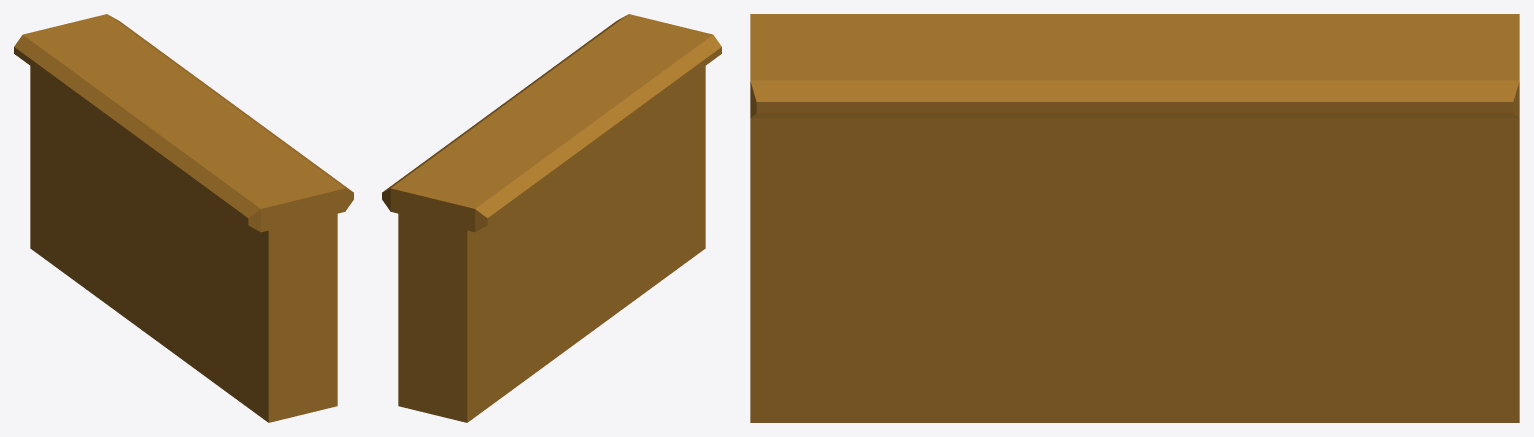
The model's file is CommonWall.fbx.
3 views of the same model, side by side, from view 1: azimuth 30°, elevation 25°; view 2: azimuth 150°, elevation 25°; view 3: azimuth 270°, elevation 25° (orthographic). The views are drawn at different scales.
Parts seen in each view (by area): view 1: CommonWall.002; view 2: CommonWall.002; view 3: CommonWall.002.
Part boxes in pixels (<box>): CommonWall.002: <box>14,14,353,422</box>; CommonWall.002: <box>382,14,721,422</box>; CommonWall.002: <box>750,14,1519,422</box>.
Size of the model in its own units: 154 by 300 by 600.
